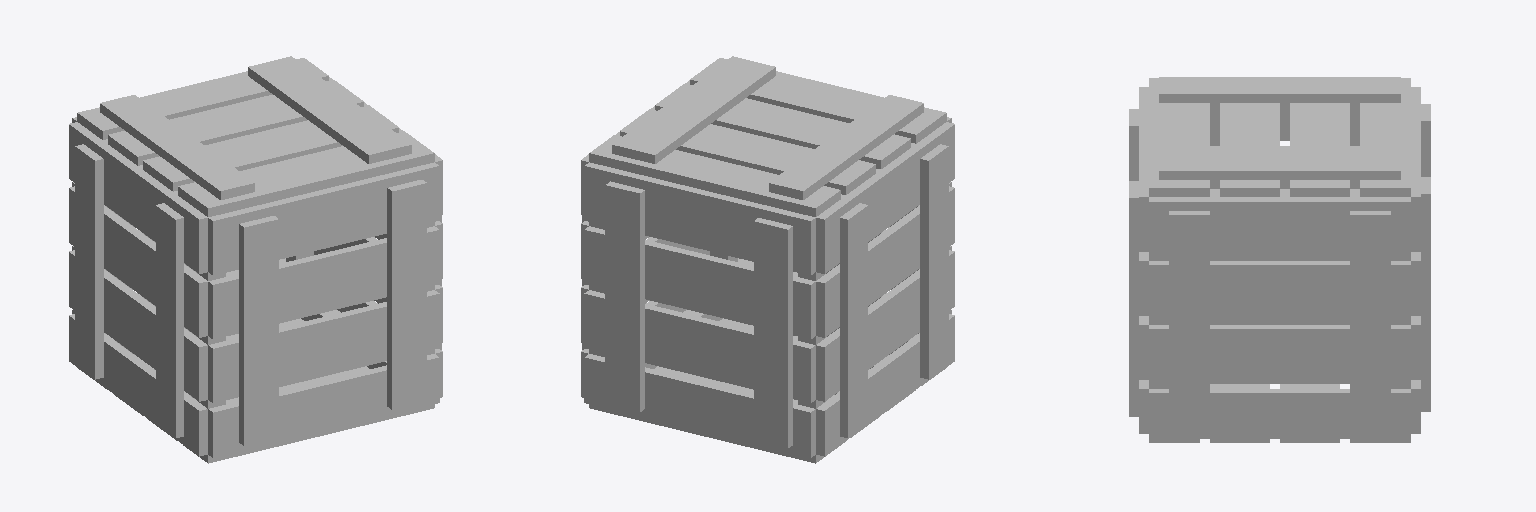
Rendered from crate.obj.
The picture shows the model from 3 angles: view 1: azimuth 30°, elevation 25°; view 2: azimuth 150°, elevation 25°; view 3: azimuth 270°, elevation 25°; orthographic projection.
Visible parts, largest first — view 1: object 1; view 2: object 1; view 3: object 1.
Part boxes in pixels (x1,y1,x2,y2): object 1: (69, 56, 442, 463); object 1: (581, 56, 954, 463); object 1: (1129, 77, 1430, 442).
Size of the model in its own units: 3 by 2.9 by 3.